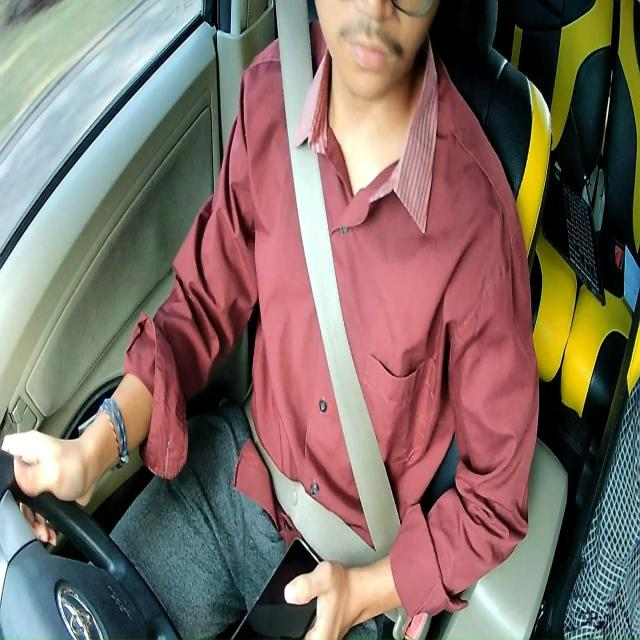phone: (232, 535, 322, 640)
